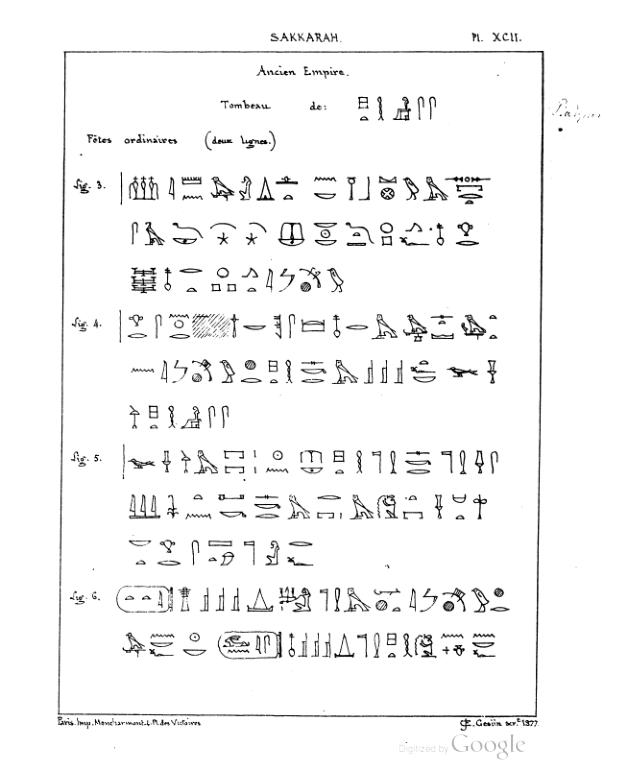circle: (212, 625, 288, 664), (108, 581, 177, 619)
